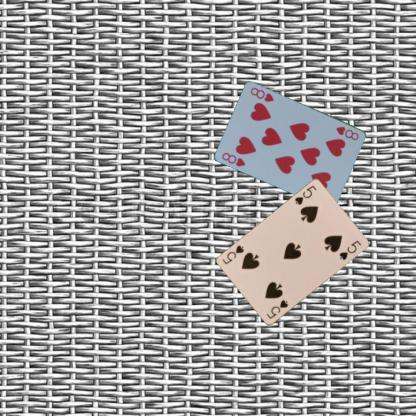5s: (292, 183, 318, 207), (264, 297, 290, 320)
8h: (219, 150, 247, 167), (333, 124, 360, 141)
